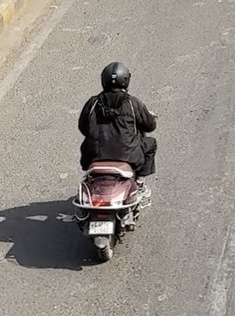BikeWithRider: (64, 57, 163, 264)
Helmet: (95, 57, 135, 96)
